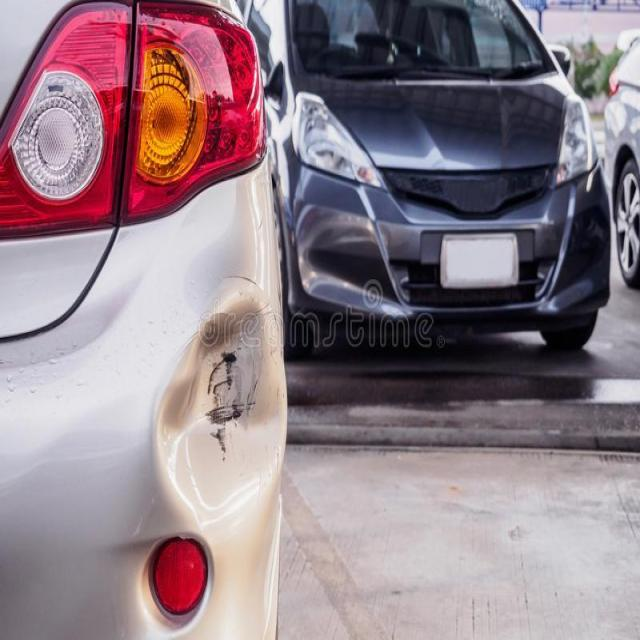dent: (147, 278, 290, 537)
